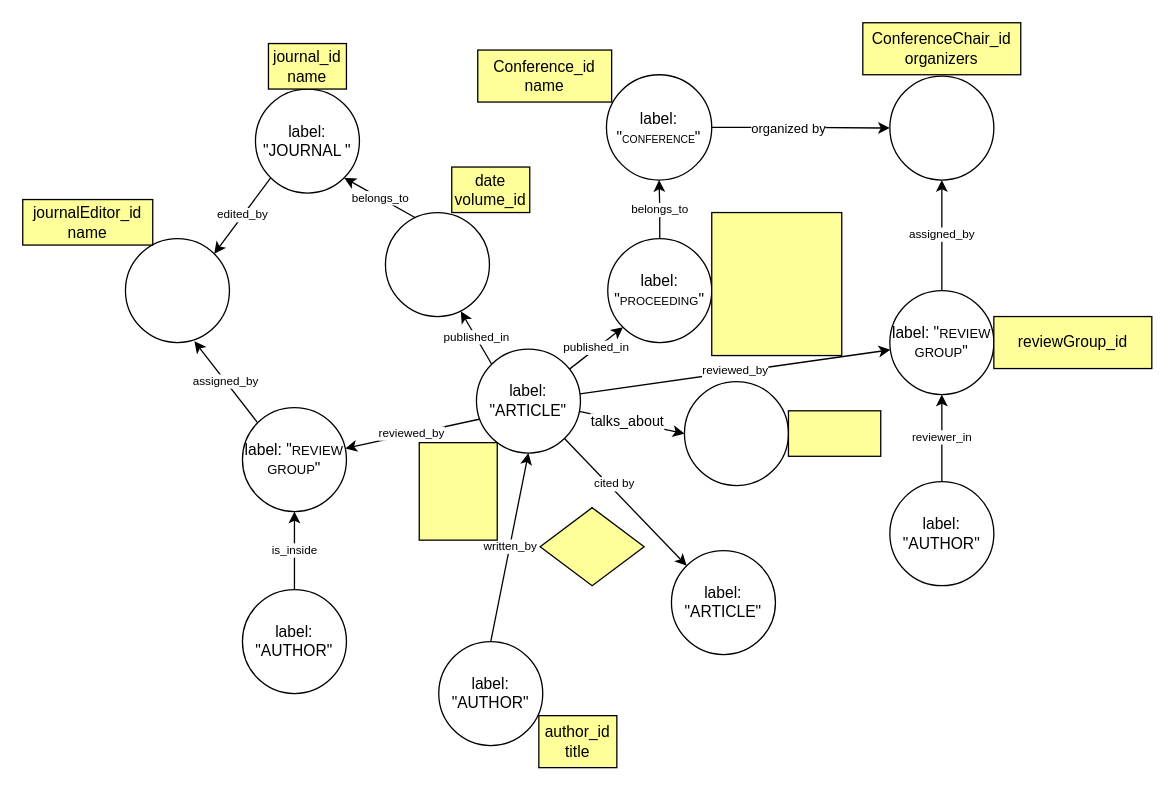
Some shapes in this 1175 by 790 pixel diagram are drawn without their labels. Here are the shapes that lost their labels. From the top down, the centre of each, then its label:
the point at 941,127: label: "CONFERENCE CHAIR"
the point at 436,264: label: "VOLUME"
the point at 776,283: isbn proceeding_id publisher series title url year
the point at 176,290: label: "JOURNAL EDITOR"
the point at 735,433: label: "KEYWORD"
the point at 834,433: keyword_id word
the point at 457,490: article_id doi title abstract pages
the point at 591,546: mainAuthor
